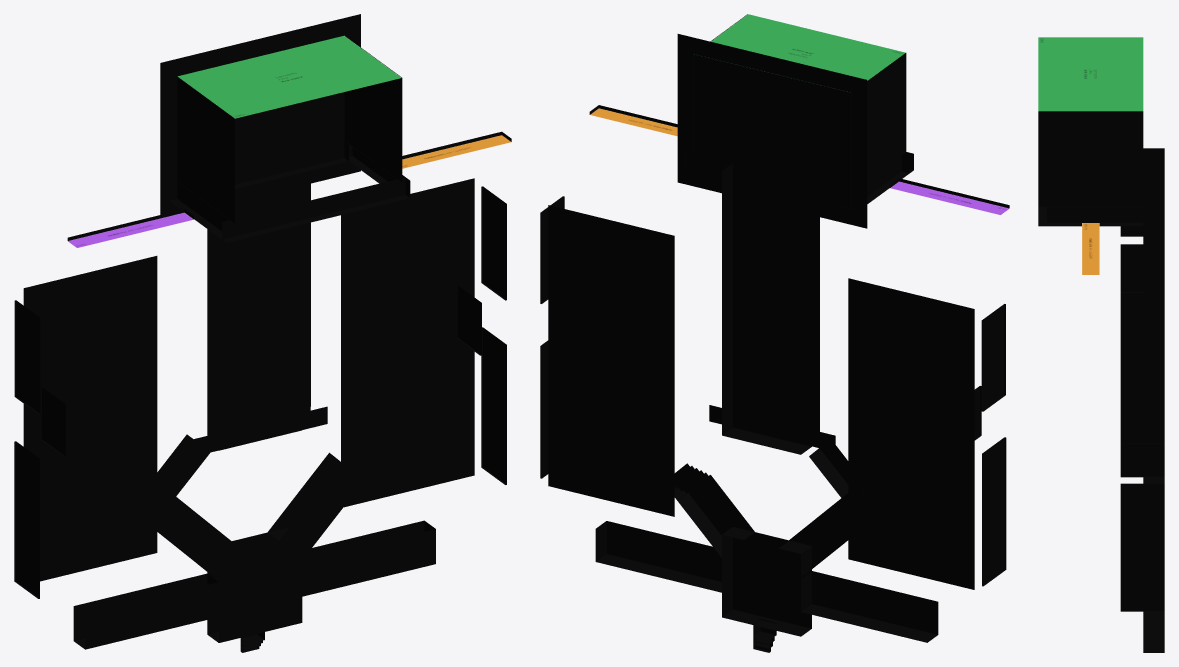
3 renders of one model, left to right at view 1: azimuth 30°, elevation 25°; view 2: azimuth 150°, elevation 25°; view 3: azimuth 270°, elevation 25°, orthographic. The views are drawn at different scales.
Visible parts, largest first — view 1: _ncl1_9132, _ncl1_9164, _ncl1_9176, LED_M, _ncl1_9126, _ncl1_9124, _ncl1_9042, _ncl1_9180, _ncl1_9162, _ncl1_9182, _ncl1_9158, _ncl1_9064 (+10 smaller); view 2: _ncl1_9164, _ncl1_9176, _ncl1_9132, _ncl1_8304, _ncl1_8788, _ncl1_9064, LED_M, _ncl1_8916, _ncl1_9126, _ncl1_9180, _ncl1_9070, _ncl1_9068 (+7 smaller); view 3: _ncl1_9124, LED_M, _ncl1_9162, _ncl1_8304, _ncl1_9158, _ncl1_9046, _ncl1_9160, _ncl1_9180, _ncl1_9178, LED_R, _ncl1_8916, _ncl1_9182.
Part boxes in pixels (box(x1,y1,x2,y2)): _ncl1_9132: box(85, 14, 435, 649); _ncl1_9164: box(341, 178, 474, 507); _ncl1_9176: box(23, 256, 157, 581); LED_M: box(177, 35, 401, 118); _ncl1_9126: box(177, 76, 234, 223); _ncl1_9124: box(344, 36, 402, 182); _ncl1_9042: box(222, 177, 410, 242); _ncl1_9180: box(14, 441, 39, 598); _ncl1_9162: box(481, 327, 506, 484); _ncl1_9182: box(14, 300, 40, 414); _ncl1_9158: box(481, 186, 506, 300); _ncl1_9064: box(73, 573, 218, 649); _ncl1_9164: box(548, 205, 674, 516); _ncl1_9176: box(848, 278, 974, 589); _ncl1_9132: box(610, 34, 930, 599); _ncl1_8304: box(722, 163, 811, 454); _ncl1_8788: box(722, 532, 811, 636); _ncl1_9064: box(801, 571, 938, 642); LED_M: box(694, 14, 905, 91); _ncl1_8916: box(595, 521, 721, 592); _ncl1_9126: box(851, 53, 906, 191); _ncl1_9180: box(982, 437, 1006, 586); _ncl1_9070: box(677, 475, 754, 557); _ncl1_9068: box(779, 493, 848, 576); _ncl1_9124: box(1038, 111, 1143, 206); LED_M: box(1038, 37, 1143, 111); _ncl1_9162: box(1120, 483, 1164, 611); _ncl1_8304: box(1143, 151, 1164, 355); _ncl1_9158: box(1120, 355, 1164, 443); _ncl1_9046: box(1047, 207, 1143, 226); _ncl1_9160: box(1120, 443, 1164, 477); _ncl1_9180: box(1120, 293, 1143, 355); _ncl1_9178: box(1120, 244, 1143, 292); LED_R: box(1082, 223, 1099, 274); _ncl1_8916: box(1143, 611, 1164, 652); _ncl1_9182: box(1120, 148, 1164, 236).
Bounding box in the file's own units: 28.05 × 35.44 × 7.22.
3 materials, 1 textured.
